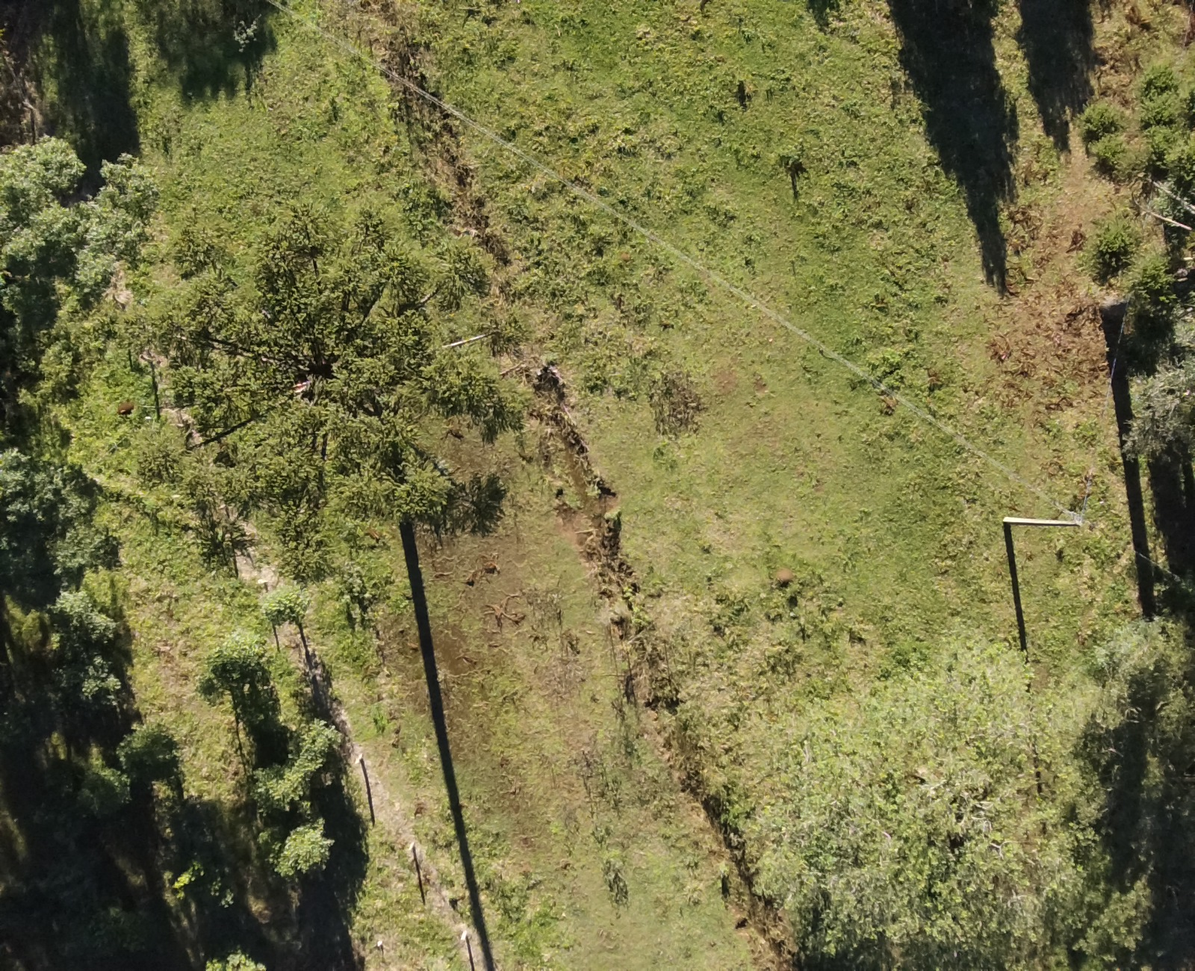erva: (84, 184, 161, 258), (205, 638, 276, 707), (116, 719, 190, 775), (60, 592, 128, 648), (27, 134, 93, 187), (279, 821, 339, 875), (71, 668, 134, 717), (251, 769, 314, 809), (69, 251, 123, 297), (113, 161, 156, 210), (26, 207, 72, 252), (271, 587, 311, 633), (313, 719, 348, 769)
